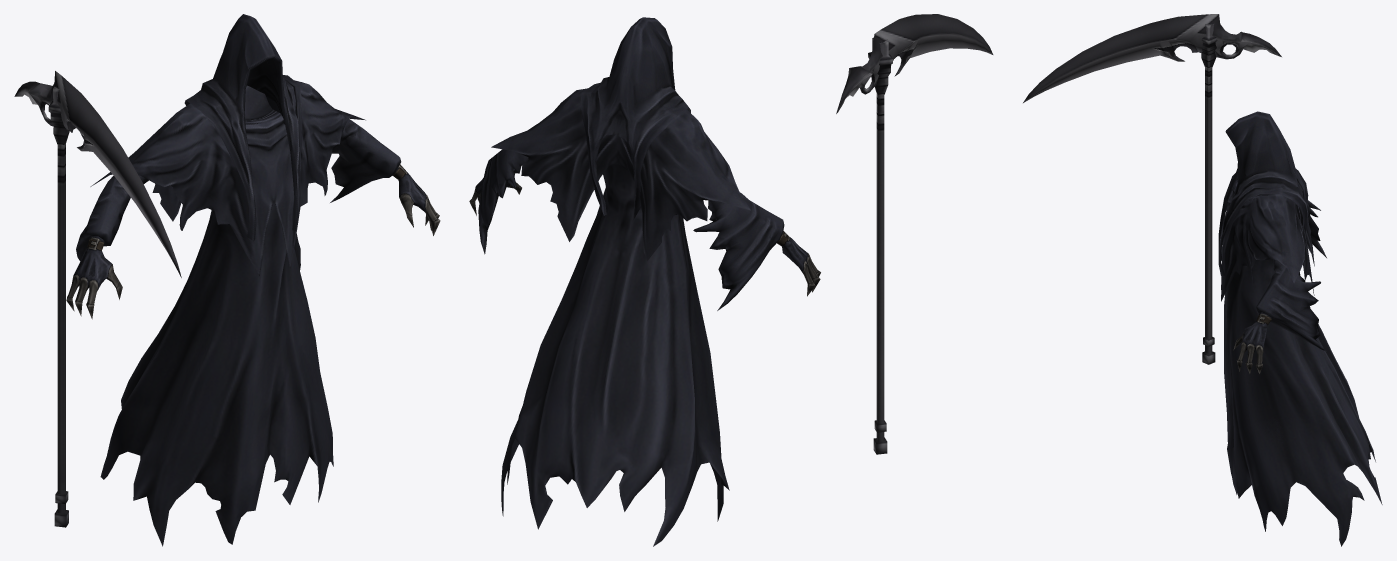
The picture shows the model from 3 angles, left to right: view 1: azimuth 30°, elevation 25°; view 2: azimuth 150°, elevation 25°; view 3: azimuth 270°, elevation 25°; orthographic projection. The views are drawn at different scales.
Parts seen in each view (by area): view 1: Object004; view 2: Object004; view 3: Object004.
Boxes of the visible parts, <box> form: Object004: <box>14,14,440,546</box>; Object004: <box>469,14,993,546</box>; Object004: <box>1023,14,1382,546</box>.
Bounding box in the file's own units: 1.78 × 2.16 × 1.71.
Materials: 1 (1 with a texture image).
